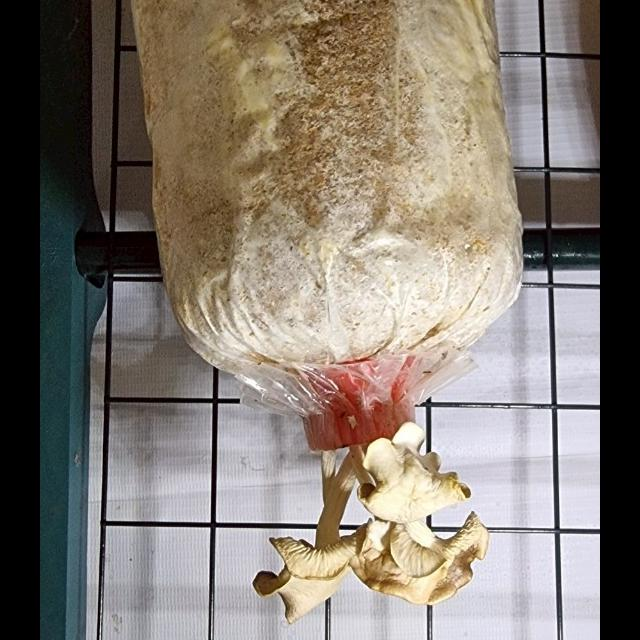abnormal: (256, 458, 354, 622), (358, 518, 508, 614), (348, 420, 482, 516)
